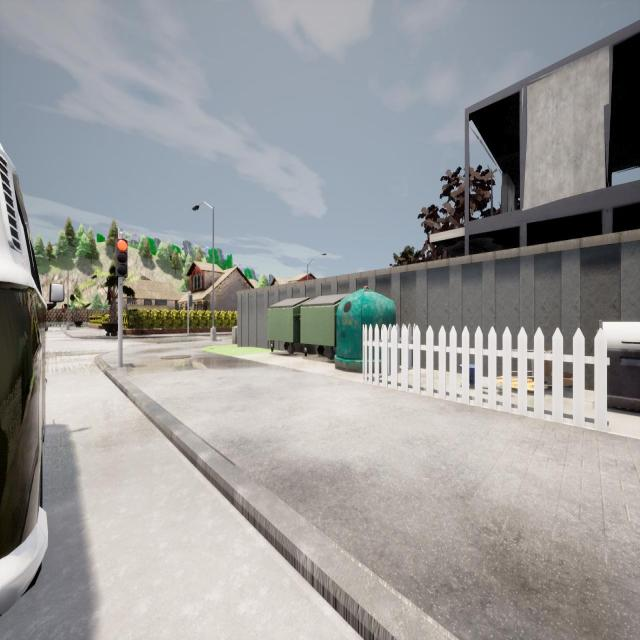Vehicle: (1, 136, 65, 614)
traffic_light: (116, 239, 128, 278), (188, 294, 192, 306), (62, 305, 65, 313)
